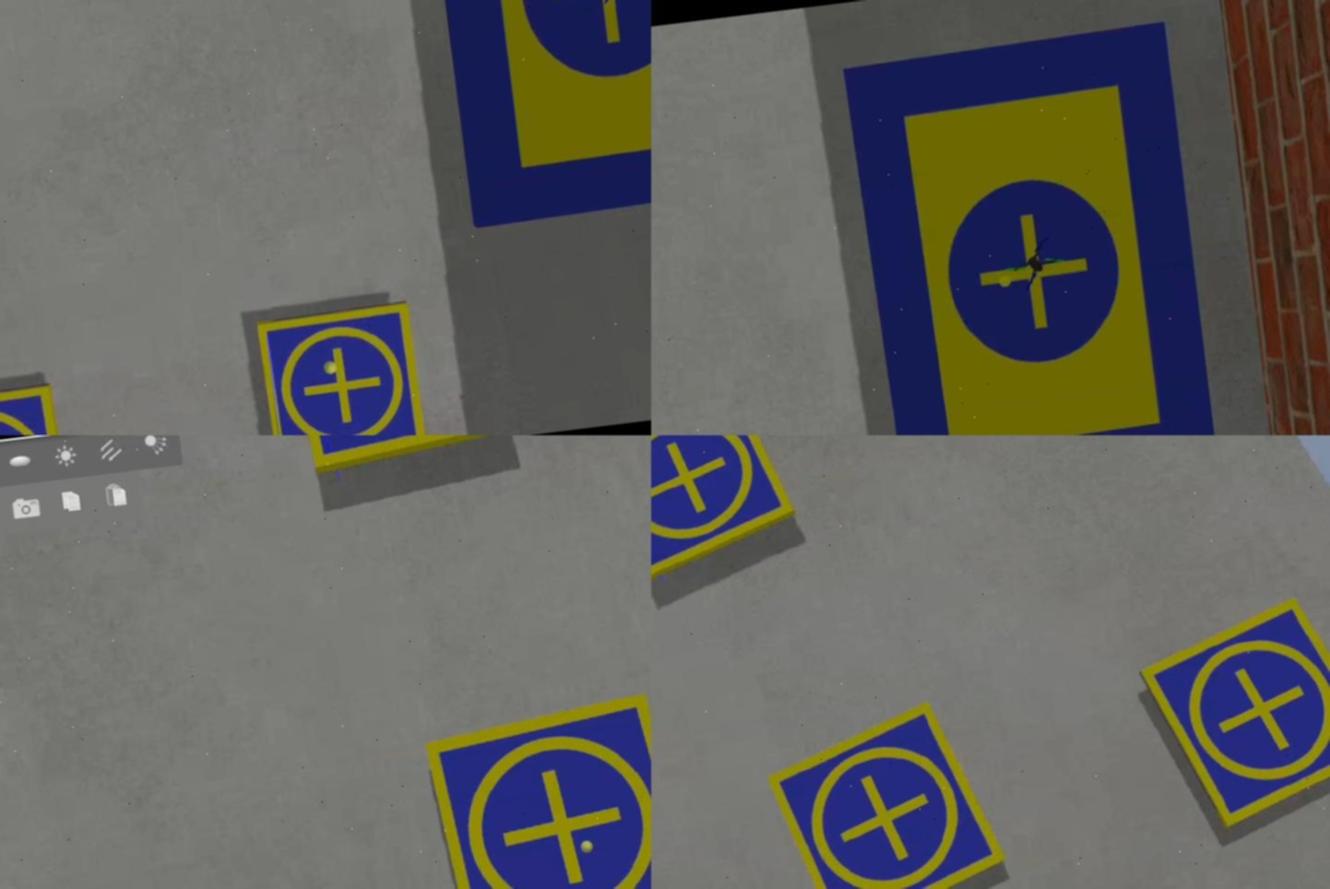large_base: (842, 22, 1219, 435), (415, 1, 652, 227)
small_base: (1133, 591, 1330, 839), (766, 697, 1014, 889), (422, 690, 652, 889), (254, 299, 428, 435), (652, 435, 802, 589), (304, 435, 526, 475), (1, 380, 66, 435)
